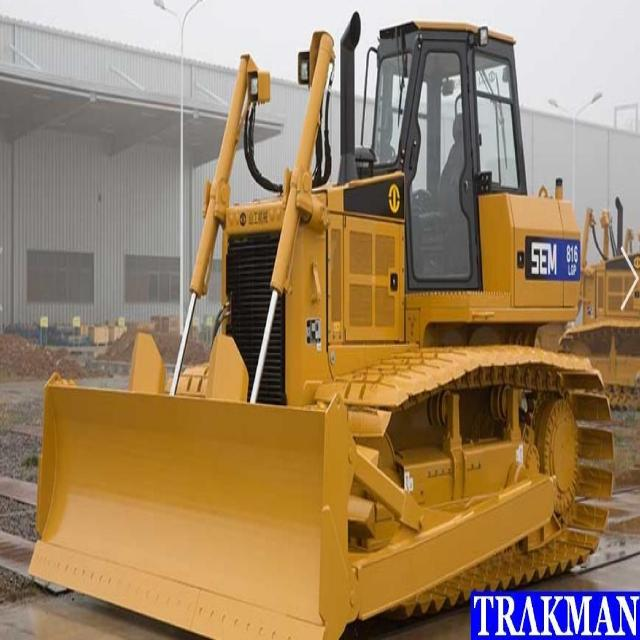buldozerpayloadergrader: (15, 8, 618, 639)
